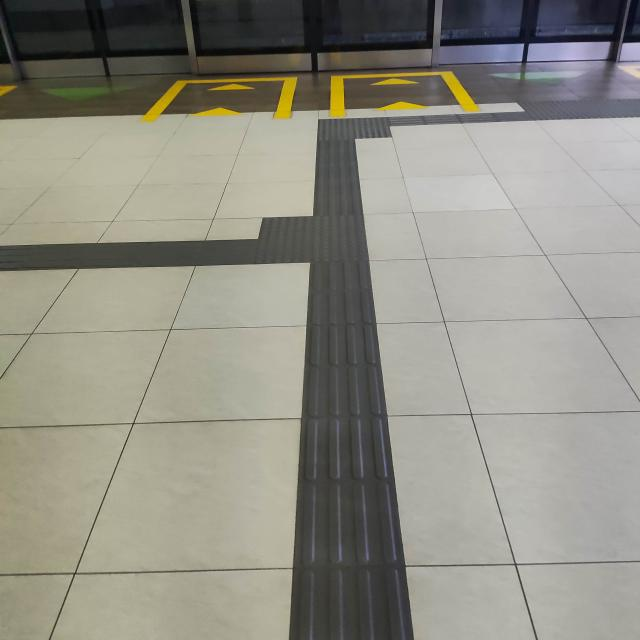kanan: (304, 104, 443, 156)
